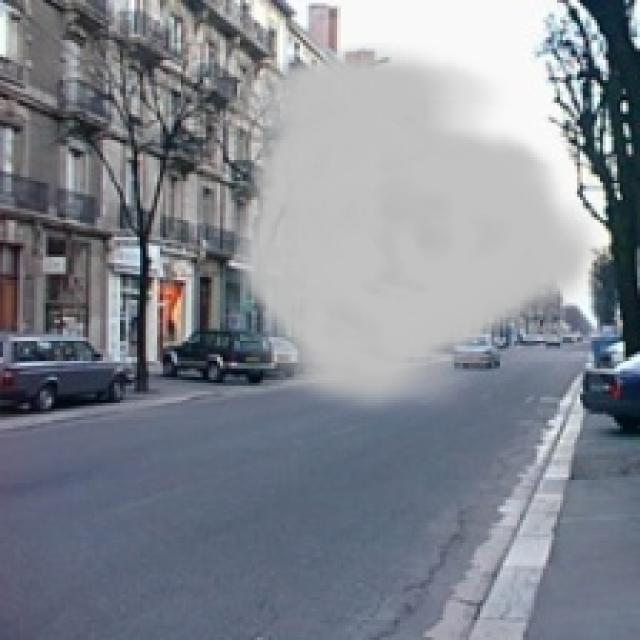Smoke: (226, 43, 603, 420)
